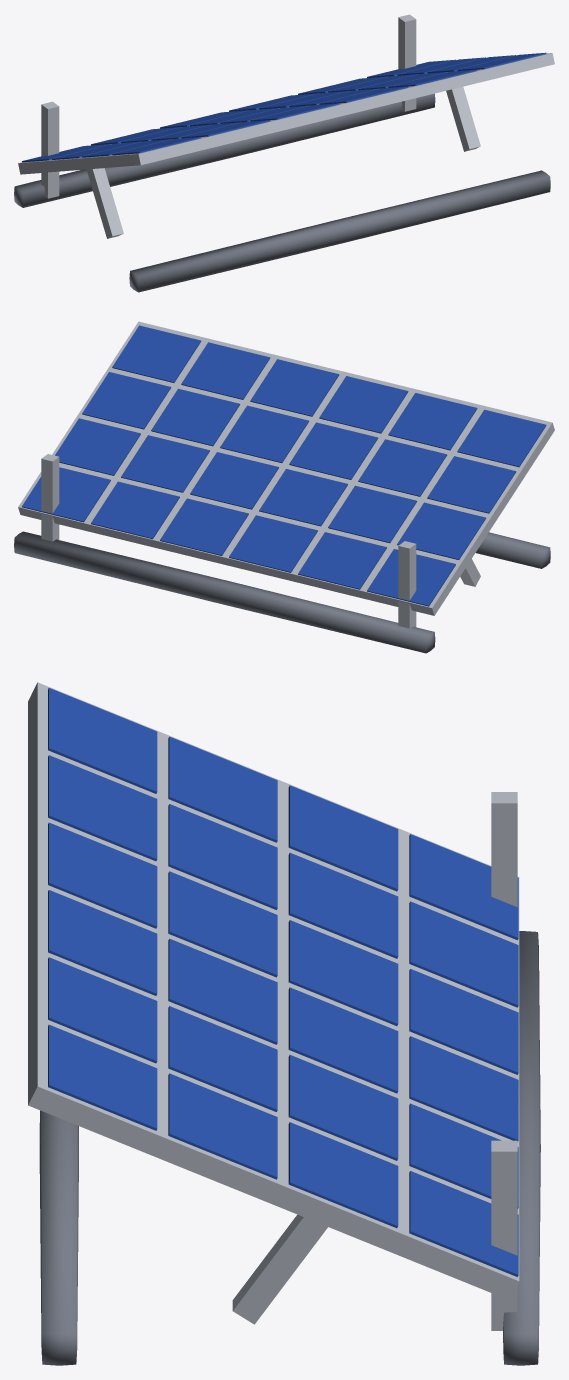
Rendered from solar_panel.glb.
3 views of the same model, one above another, from view 1: azimuth 30°, elevation 25°; view 2: azimuth 150°, elevation 25°; view 3: azimuth 270°, elevation 25° (orthographic). The views are drawn at different scales.
Parts seen in each view (by area): view 1: root; view 2: root; view 3: root.
Part boxes in pixels (x1,y1,x2,y2): root: (14,14,554,292); root: (14,321,554,653); root: (28,682,540,1365).
Bounding box in the file's own units: 2.9 × 0.9432 × 1.55.
